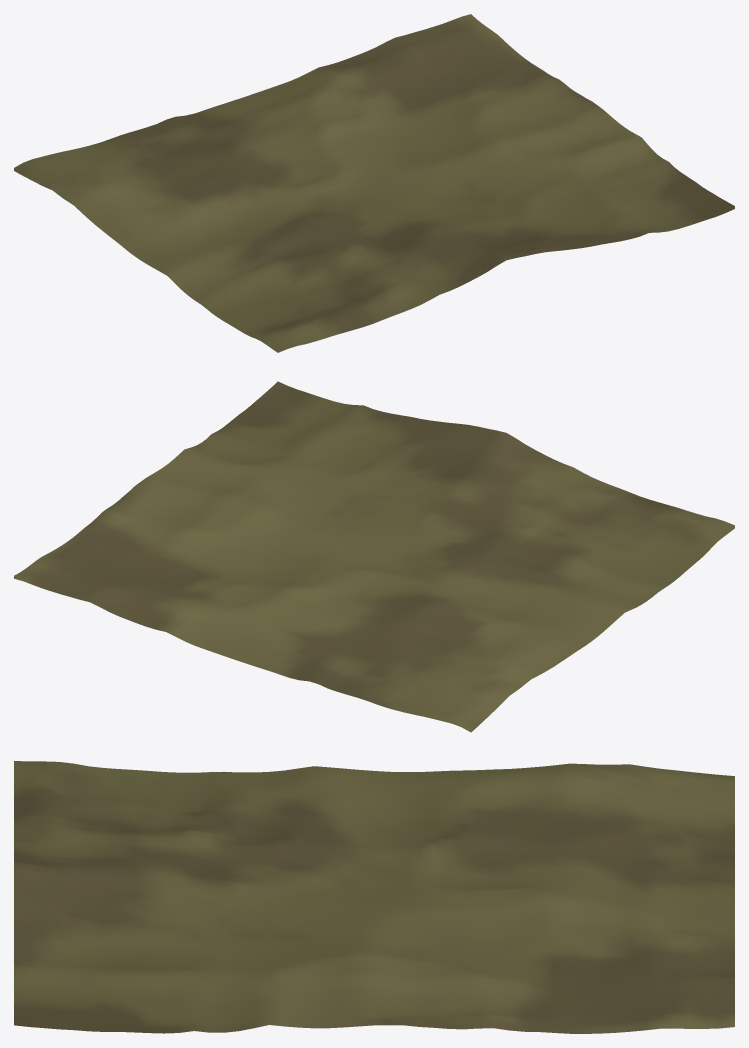
Rendered from land_m_15_09.glb.
3 views of the same model, one above another, from view 1: azimuth 30°, elevation 25°; view 2: azimuth 150°, elevation 25°; view 3: azimuth 270°, elevation 25° (orthographic). The views are drawn at different scales.
Parts seen in each view (by area): view 1: land_m_15_09; view 2: land_m_15_09; view 3: land_m_15_09.
Boxes of the visible parts, <box> form: land_m_15_09: <box>14,14,734,352</box>; land_m_15_09: <box>14,381,734,732</box>; land_m_15_09: <box>14,761,734,1033</box>.
Size of the model in its own units: 960 by 102 by 960.
